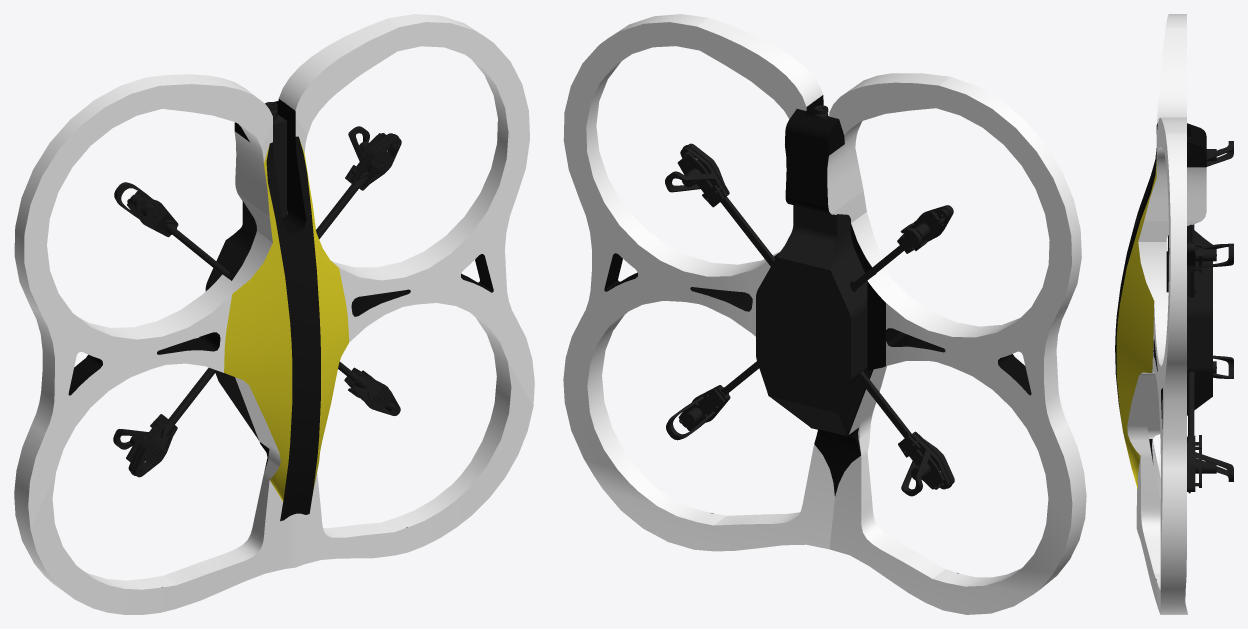
Rendered from ArDrone_Complete_Indoor_asas.obj.
The picture shows the model from 3 angles, left to right: view 1: azimuth 30°, elevation 25°; view 2: azimuth 150°, elevation 25°; view 3: azimuth 270°, elevation 25°; orthographic projection. The views are drawn at different scales.
Parts seen in each view (by area): view 1: Solid1:1, Solid1:2, Solid1:13, Solid1:7, Solid1:4, Solid1:10; view 2: Solid1:1, Solid1, Solid1:2, Solid1:13, Solid1:7, Solid1:8, Solid1:14, Solid1:11, Solid1:5, Solid1:10, Solid1:9, Solid1:15; view 3: Solid1:1, Solid1:2, Solid1:10, Solid1:7, Solid1:12, Solid1:4, Solid1:11, Solid1:8, Solid1:13.
Boxes of the visible parts, box(x1,y1,x2,y2) form: Solid1:1: box(14, 14, 534, 614); Solid1:2: box(206, 102, 288, 440); Solid1:13: box(113, 417, 177, 477); Solid1:7: box(348, 126, 401, 190); Solid1:4: box(114, 182, 178, 237); Solid1:10: box(348, 370, 400, 415); Solid1:1: box(563, 14, 1086, 614); Solid1: box(756, 257, 850, 412); Solid1:2: box(770, 105, 871, 435); Solid1:13: box(901, 431, 954, 496); Solid1:7: box(665, 143, 729, 197); Solid1:8: box(677, 152, 724, 207); Solid1:14: box(898, 435, 944, 489); Solid1:11: box(678, 388, 725, 431); Solid1:5: box(897, 211, 943, 253); Solid1:10: box(666, 385, 730, 440); Solid1:9: box(720, 196, 775, 266); Solid1:15: box(858, 371, 911, 437); Solid1:1: box(1115, 14, 1206, 614); Solid1:2: box(1168, 137, 1212, 415); Solid1:10: box(1187, 435, 1233, 493); Solid1:7: box(1187, 242, 1233, 272); Solid1:12: box(1188, 371, 1194, 436); Solid1:4: box(1206, 141, 1233, 166); Solid1:11: box(1195, 435, 1216, 487); Solid1:8: box(1195, 241, 1216, 272); Solid1:13: box(1213, 355, 1233, 378).
Size of the model in its own units: 509 by 502 by 116.
